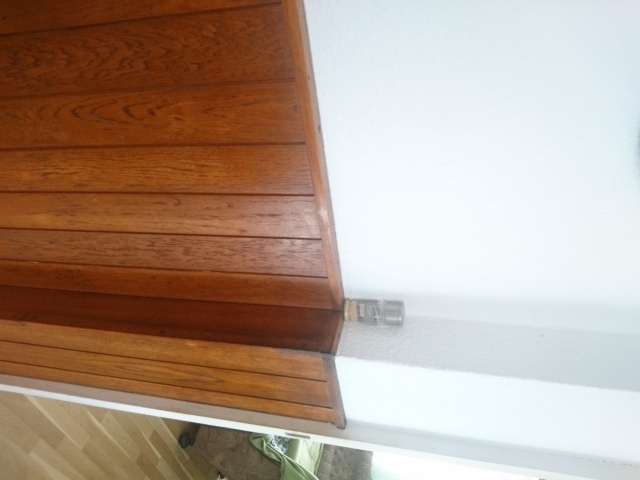Kotanyi Garlic Granules 70g: (340, 296, 405, 328)
